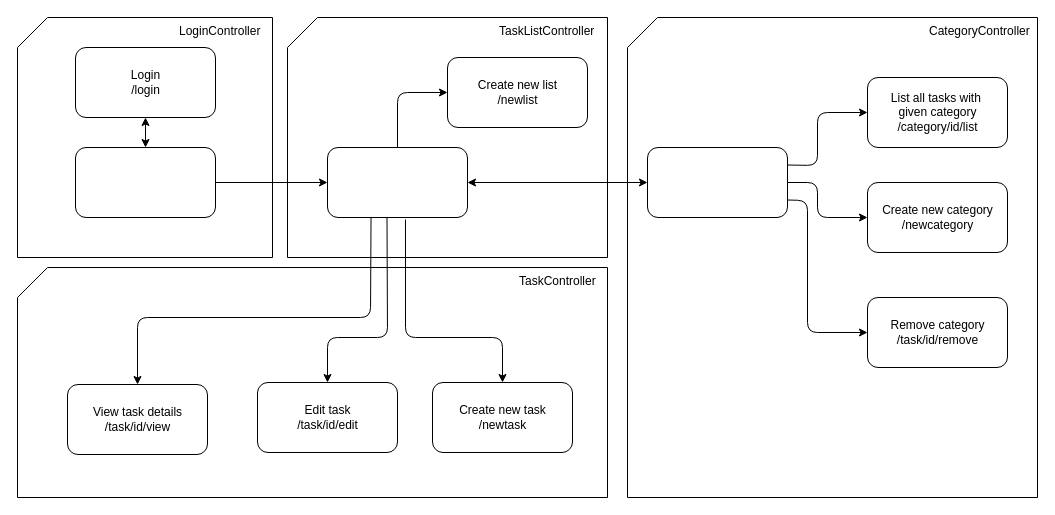
Image size: 1055x515. Some labels were removed from this diagram. The box of each missing label's shape, as (x1, y1, x2, y2) in pixels:
Handle login handle_login(): (74, 146, 216, 218)
List of categories /categories: (646, 146, 788, 218)
Task list view /index (can start, complete & remove tasks): (326, 146, 468, 218)
